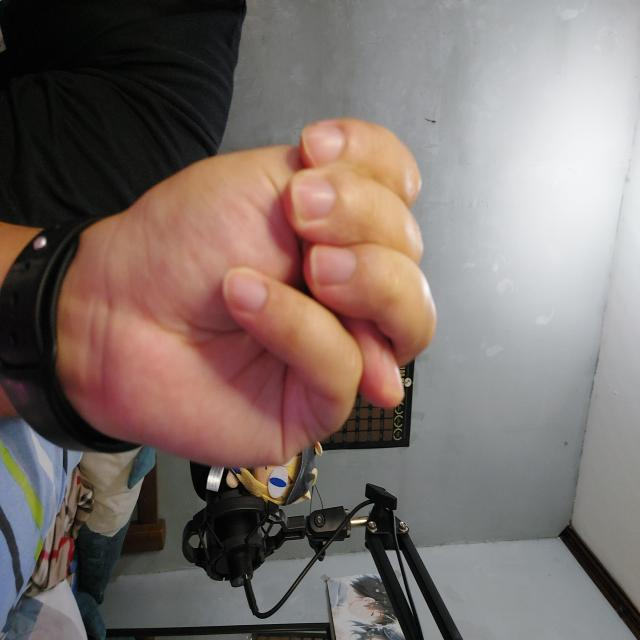M: (111, 84, 462, 530)
